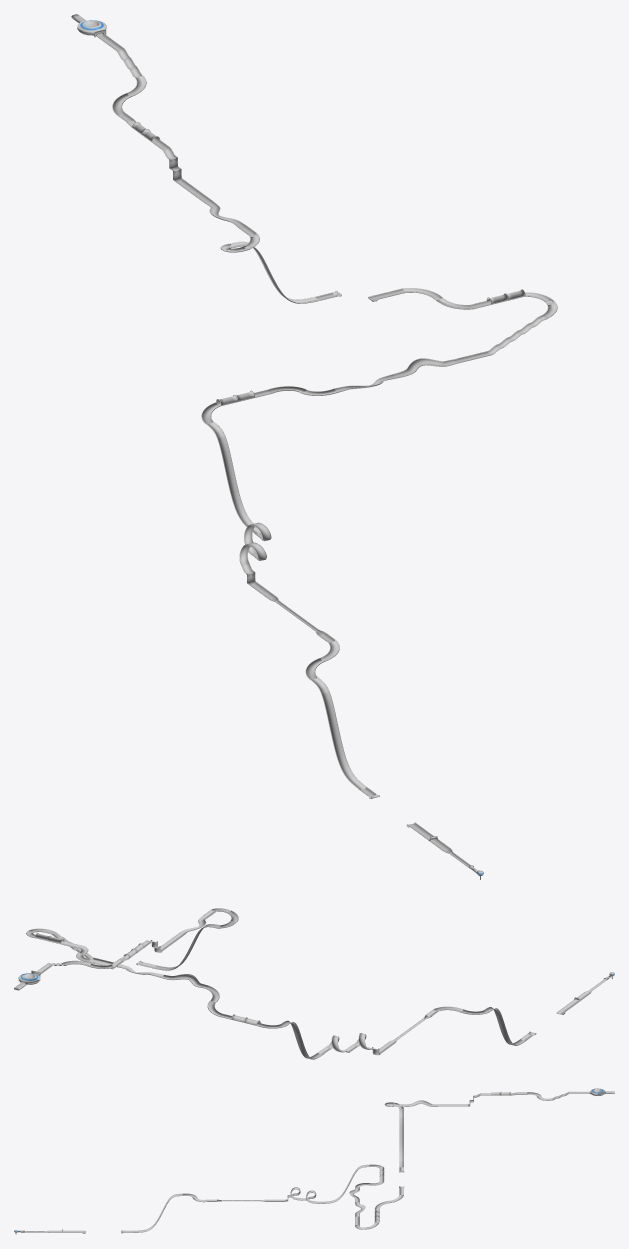
File: TwinkleCircuit.obj
The picture shows the model from 3 angles, top to bottom: view 1: azimuth 30°, elevation 25°; view 2: azimuth 150°, elevation 25°; view 3: azimuth 270°, elevation 25°; orthographic projection. The views are drawn at different scales.
Size of the model in its own units: 10105 by 8598 by 24481.
